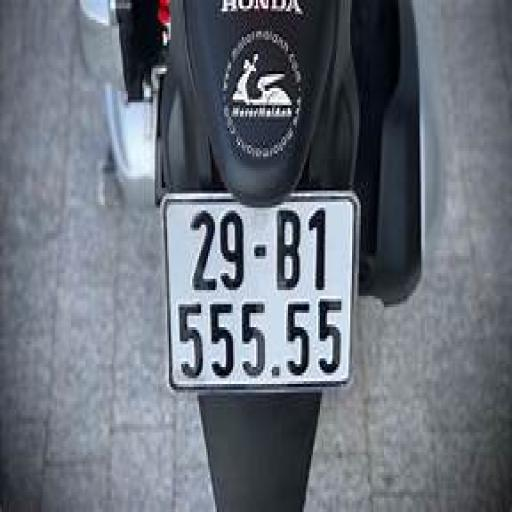place: (164, 204, 354, 384)
